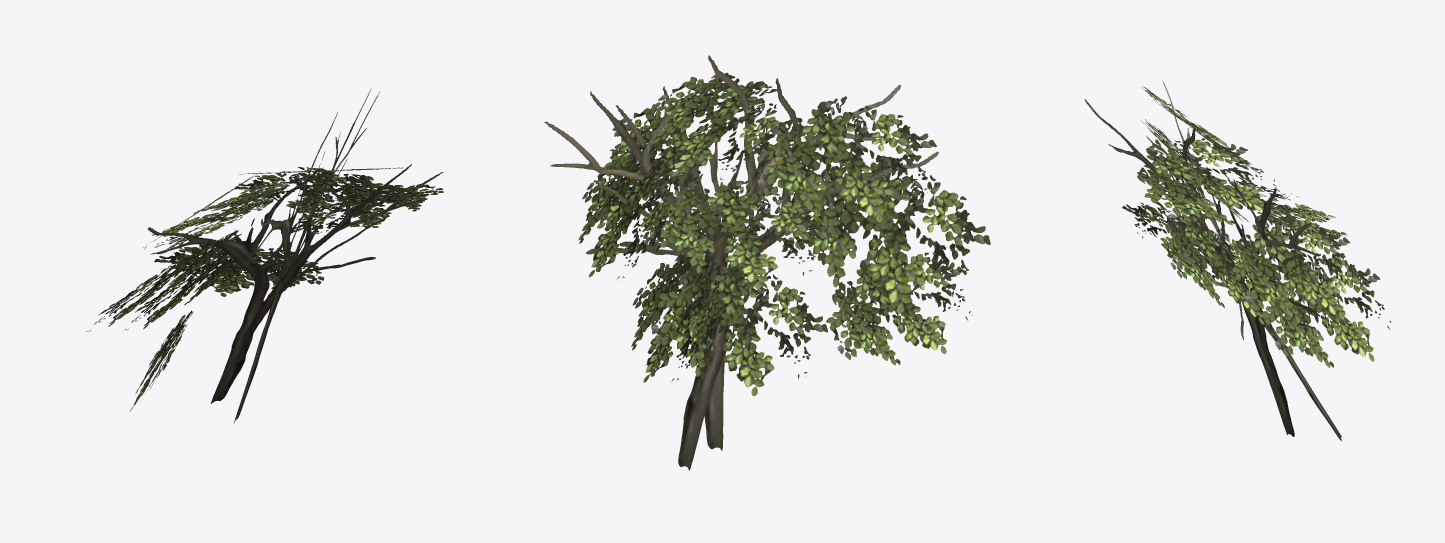
The model's file is tree_k006.FBX.
The picture shows the model from 3 angles, left to right: view 1: azimuth 30°, elevation 25°; view 2: azimuth 150°, elevation 25°; view 3: azimuth 270°, elevation 25°; orthographic projection. The views are drawn at different scales.
Parts seen in each view (by area): view 1: tree_k006; view 2: tree_k006; view 3: tree_k006.
Boxes of the visible parts, left/top/right/bottom form: tree_k006: left=86, top=88, right=443, bottom=423; tree_k006: left=544, top=55, right=990, bottom=470; tree_k006: left=1084, top=81, right=1390, bottom=441.
Size of the model in its own units: 3.95 by 3.33 by 3.08.
Materials: 1 (1 with a texture image).
